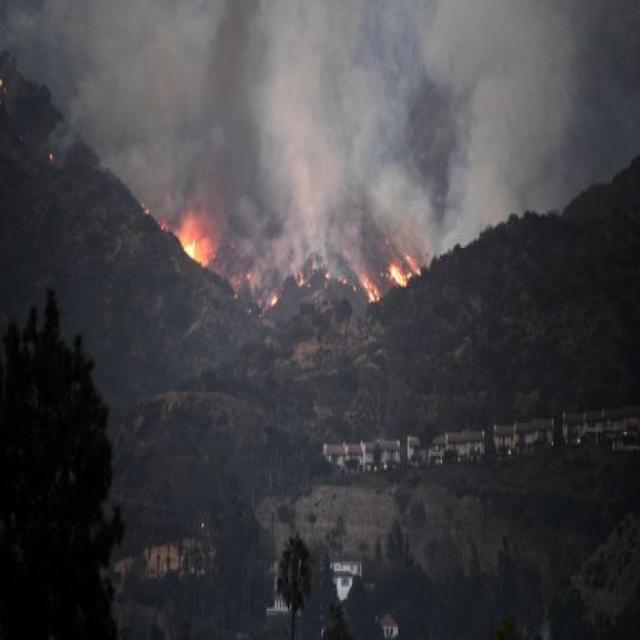Fire: (168, 222, 214, 266), (386, 259, 423, 288)
